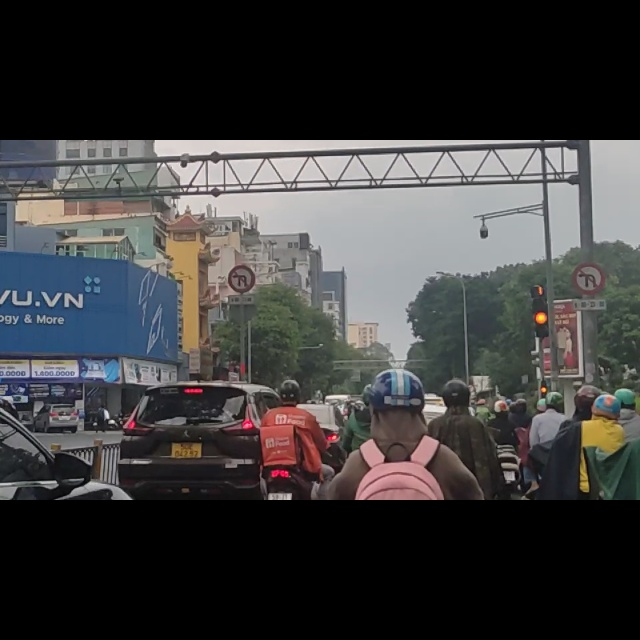bien_cam: (575, 220, 602, 268), (227, 222, 253, 268)
